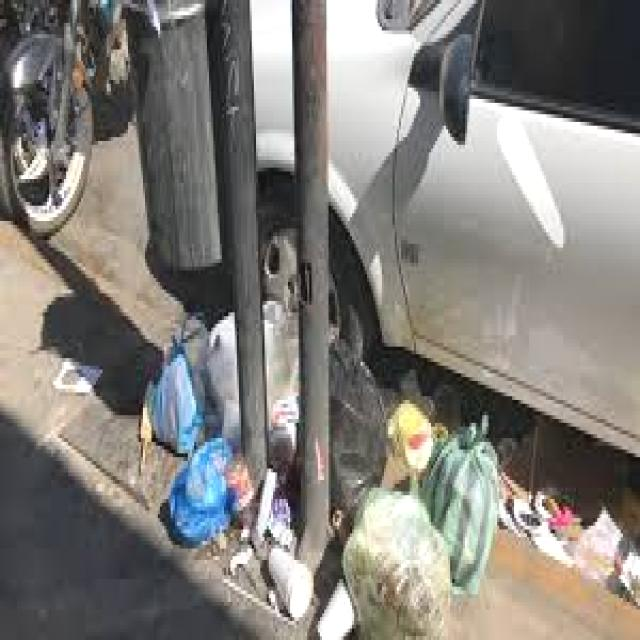garbage: (125, 288, 523, 640)
